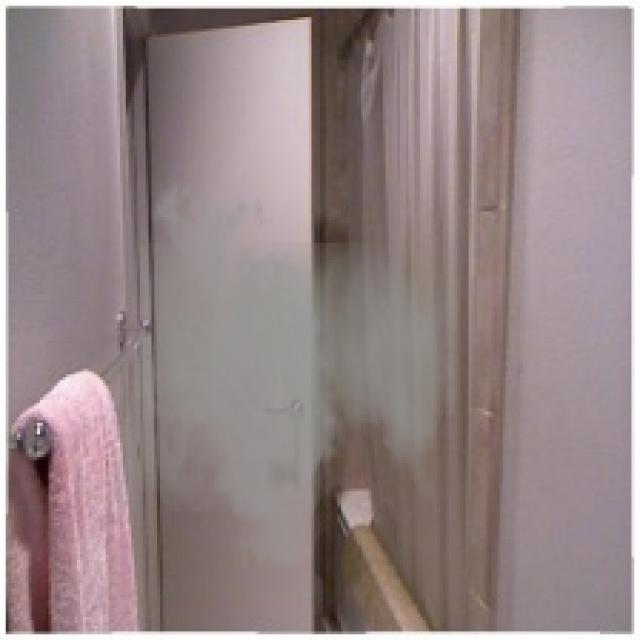Smoke: (106, 168, 460, 586)
